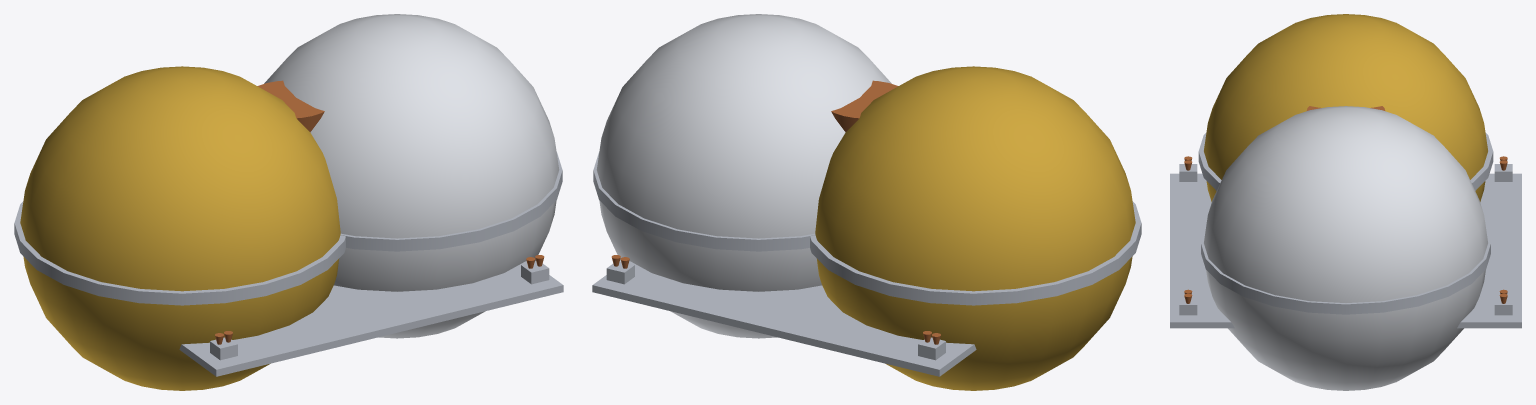
File: biprop.glb
3 views of the same model, side by side, from view 1: azimuth 30°, elevation 25°; view 2: azimuth 150°, elevation 25°; view 3: azimuth 270°, elevation 25° (orthographic). The views are drawn at different scales.
Parts seen in each view (by area): view 1: bp_fuel_tank, bp_ox_tank, bp_deck, bp_girdle_1, bp_girdle_2, bp_akm_nozzle, bp_rcs_blk_1, bp_rcs_blk_0; view 2: bp_fuel_tank, bp_ox_tank, bp_deck, bp_girdle_1, bp_girdle_2, bp_akm_nozzle, bp_rcs_blk_3, bp_rcs_blk_2; view 3: bp_ox_tank, bp_fuel_tank, bp_deck, bp_girdle_2, bp_girdle_1, bp_rcs_blk_1, bp_rcs_blk_3, bp_rcs_blk_0, bp_rcs_blk_2.
Part boxes in pixels (x1=…): bp_fuel_tank: x1=20, y1=66, x2=340, y2=390; bp_ox_tank: x1=264, y1=14, x2=559, y2=338; bp_deck: x1=179, y1=261, x2=563, y2=376; bp_girdle_1: x1=14, y1=201, x2=345, y2=305; bp_girdle_2: x1=340, y1=152, x2=562, y2=251; bp_akm_nozzle: x1=257, y1=80, x2=324, y2=132; bp_rcs_blk_1: x1=521, y1=261, x2=549, y2=284; bp_rcs_blk_0: x1=210, y1=337, x2=237, y2=360; bp_fuel_tank: x1=815, y1=66, x2=1135, y2=390; bp_ox_tank: x1=596, y1=14, x2=891, y2=338; bp_deck: x1=592, y1=261, x2=976, y2=376; bp_girdle_1: x1=810, y1=201, x2=1141, y2=305; bp_girdle_2: x1=593, y1=152, x2=815, y2=251; bp_akm_nozzle: x1=831, y1=80, x2=898, y2=132; bp_rcs_blk_3: x1=606, y1=261, x2=634, y2=284; bp_rcs_blk_2: x1=918, y1=337, x2=945, y2=360; bp_ox_tank: x1=1204, y1=106, x2=1487, y2=390; bp_fuel_tank: x1=1204, y1=14, x2=1487, y2=201; bp_deck: x1=1170, y1=173, x2=1521, y2=328; bp_girdle_2: x1=1201, y1=227, x2=1490, y2=314; bp_girdle_1: x1=1198, y1=133, x2=1493, y2=190; bp_rcs_blk_1: x1=1179, y1=297, x2=1197, y2=315; bp_rcs_blk_3: x1=1494, y1=297, x2=1512, y2=315; bp_rcs_blk_0: x1=1179, y1=164, x2=1197, y2=181; bp_rcs_blk_2: x1=1494, y1=164, x2=1512, y2=181.
Size of the model in its own units: 2.25 by 1.26 by 1.55.
